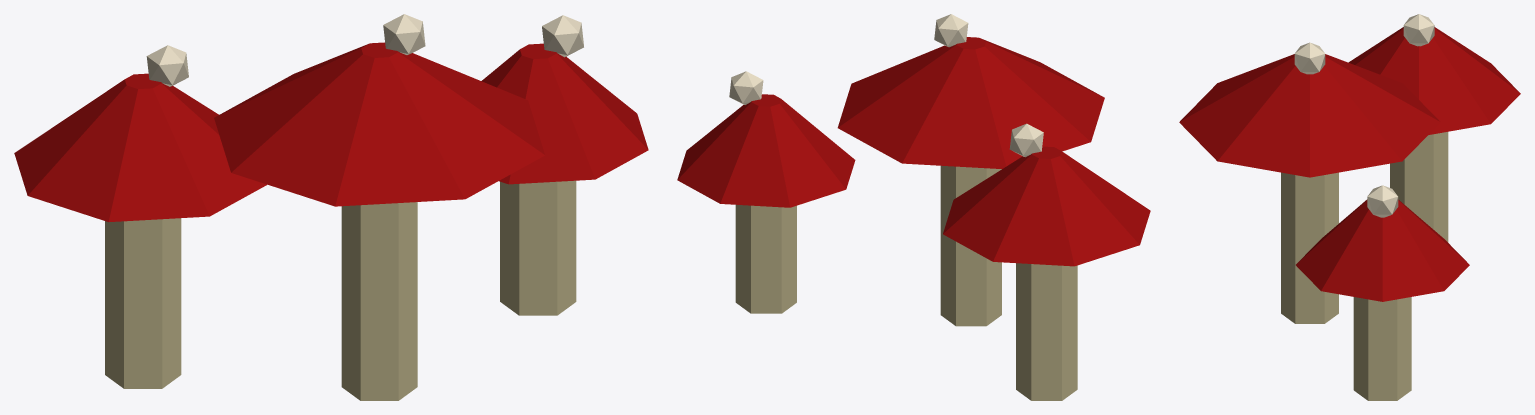
The model's file is mushrooms_swamp.obj.
The picture shows the model from 3 angles, left to right: view 1: azimuth 30°, elevation 25°; view 2: azimuth 150°, elevation 25°; view 3: azimuth 270°, elevation 25°; orthographic projection. The views are drawn at different scales.
Visible parts, largest first — view 1: mushrooms_swamp; view 2: mushrooms_swamp; view 3: mushrooms_swamp.
Part boxes in pixels (x1,y1,x2,y2): mushrooms_swamp: [14, 14, 648, 400]; mushrooms_swamp: [677, 14, 1150, 400]; mushrooms_swamp: [1179, 14, 1520, 400].
Bounding box in the file's own units: 0.71 × 0.425 × 0.47.
